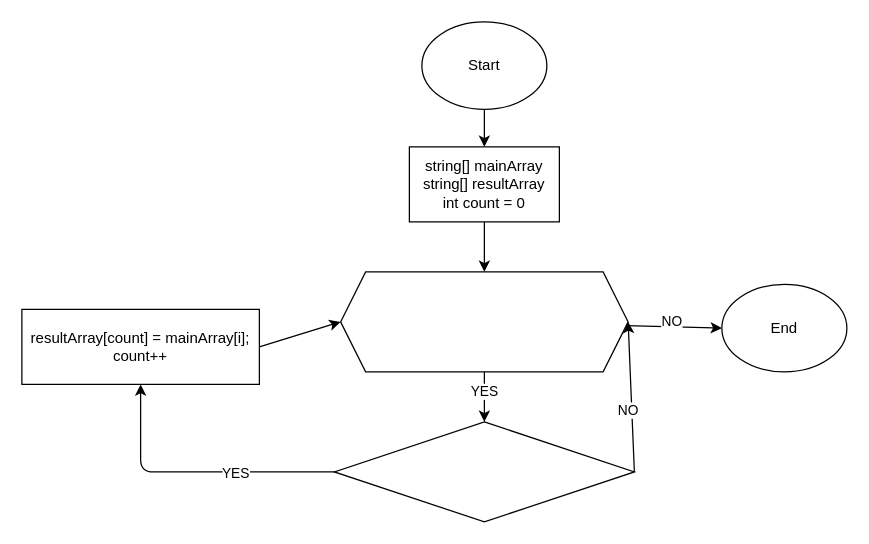
This 869x544 diagram has some shape labels left out. Each missing label, with the centre of its shape:
"for (int i = o; i < mainArray.Lenght; i++)" goes at point (483, 321).
"if (mainArray[i].length <= 3)" goes at point (483, 471).
